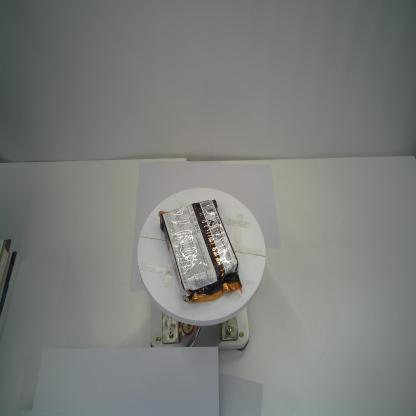Dessert: (156, 198, 243, 304)
